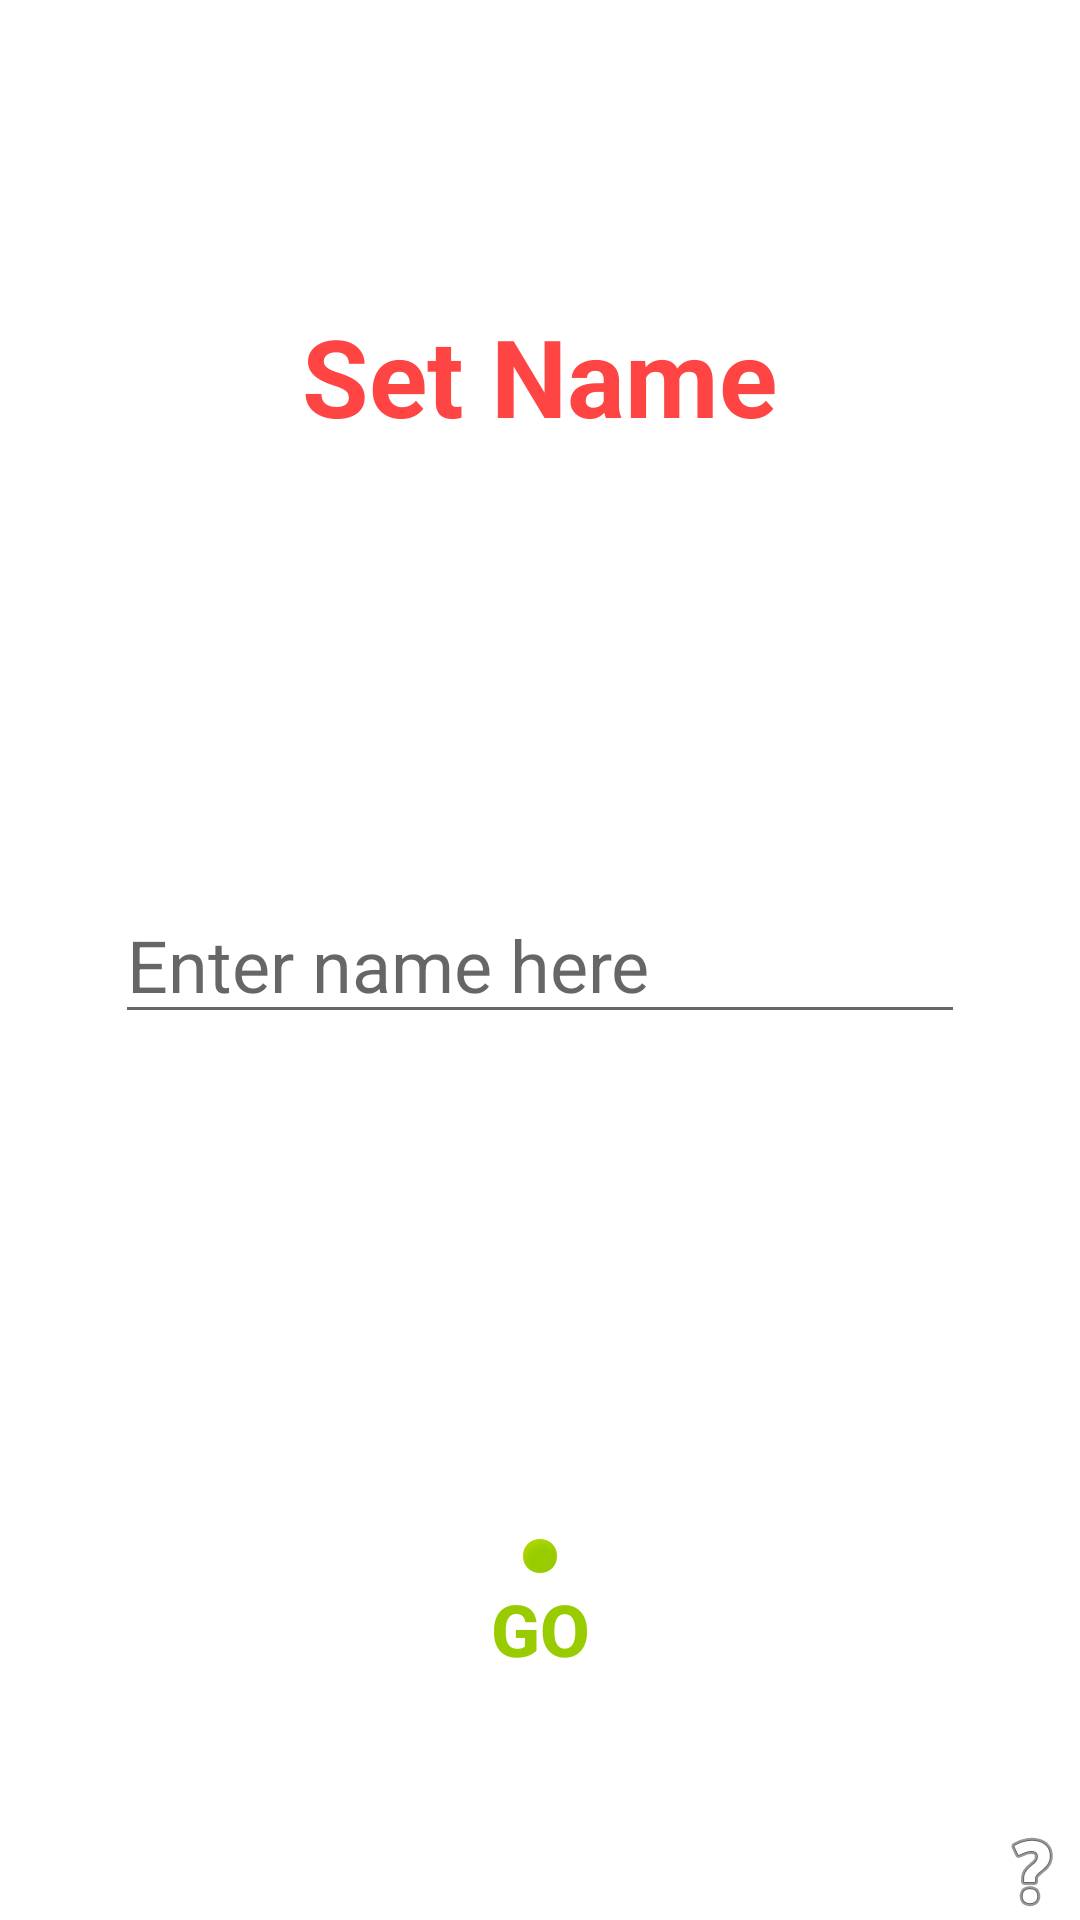

Icons on this 1080×1920 Android screen, each with the point to tap as (x=x, y=y):
help: (x=1032, y=1872)
